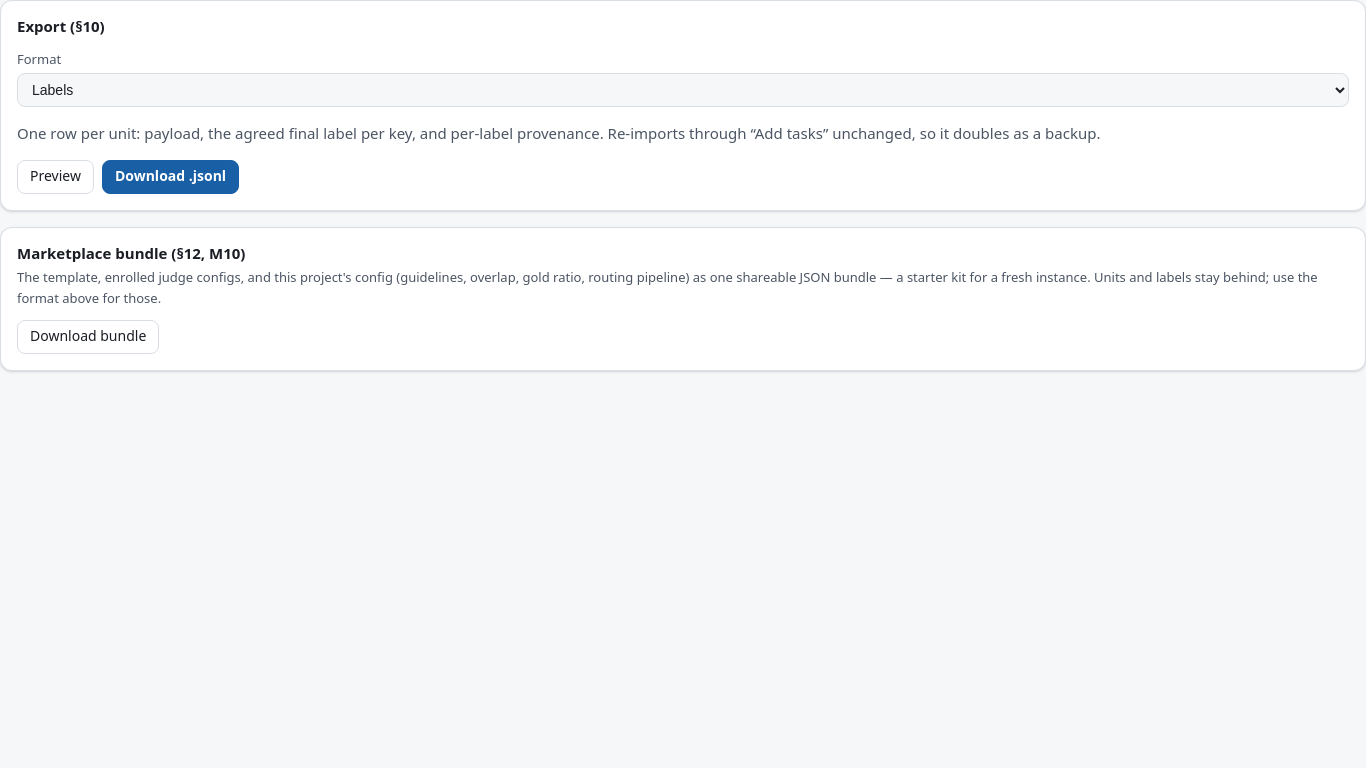
Test: Export › confirms a download that otherwise leaves nothing on the page
Click the button with test id "export-download" at (170, 177), box [102,160,239,194]
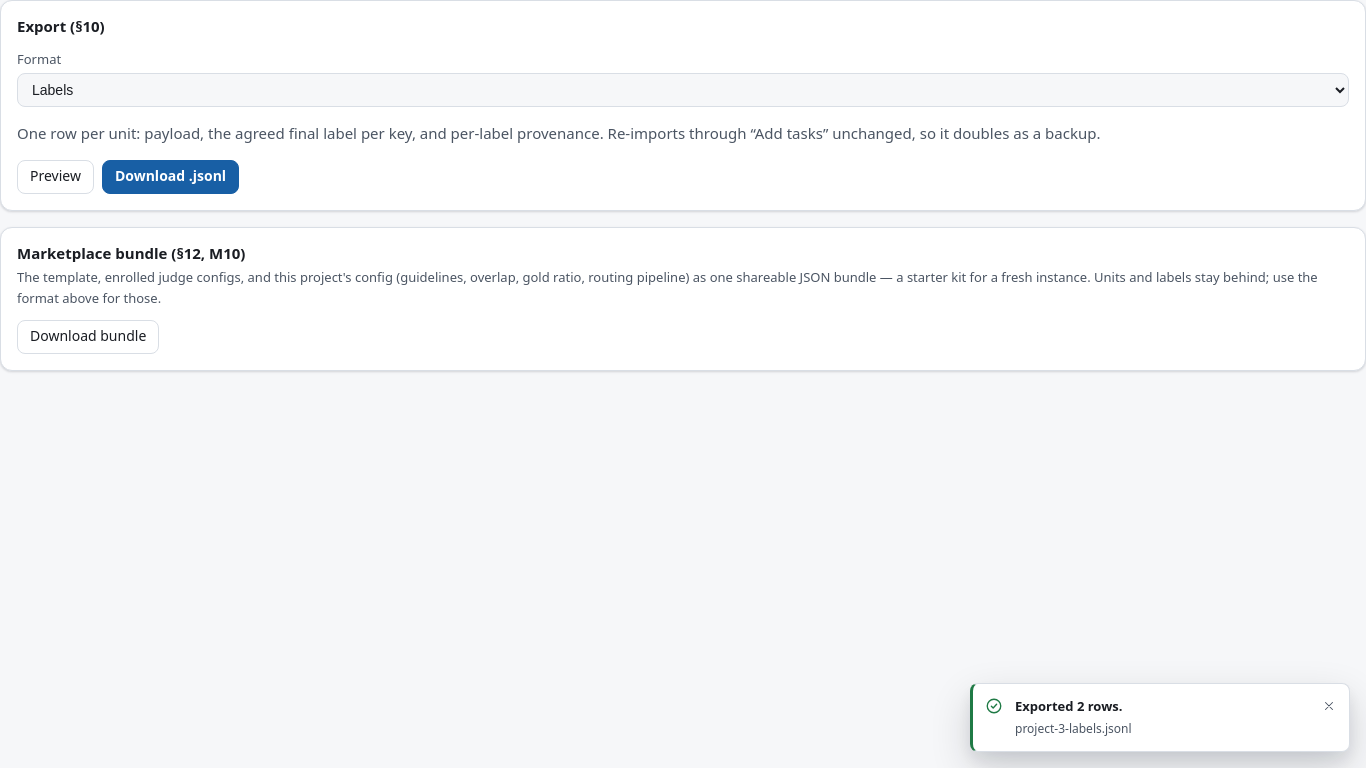
expect the element with test id "toast" shows "Exported 2 rows.": met, box [1015,697,1122,715]
expect the element with test id "toast" shows "project-3-labels.jsonl": met, box [1015,720,1132,737]
